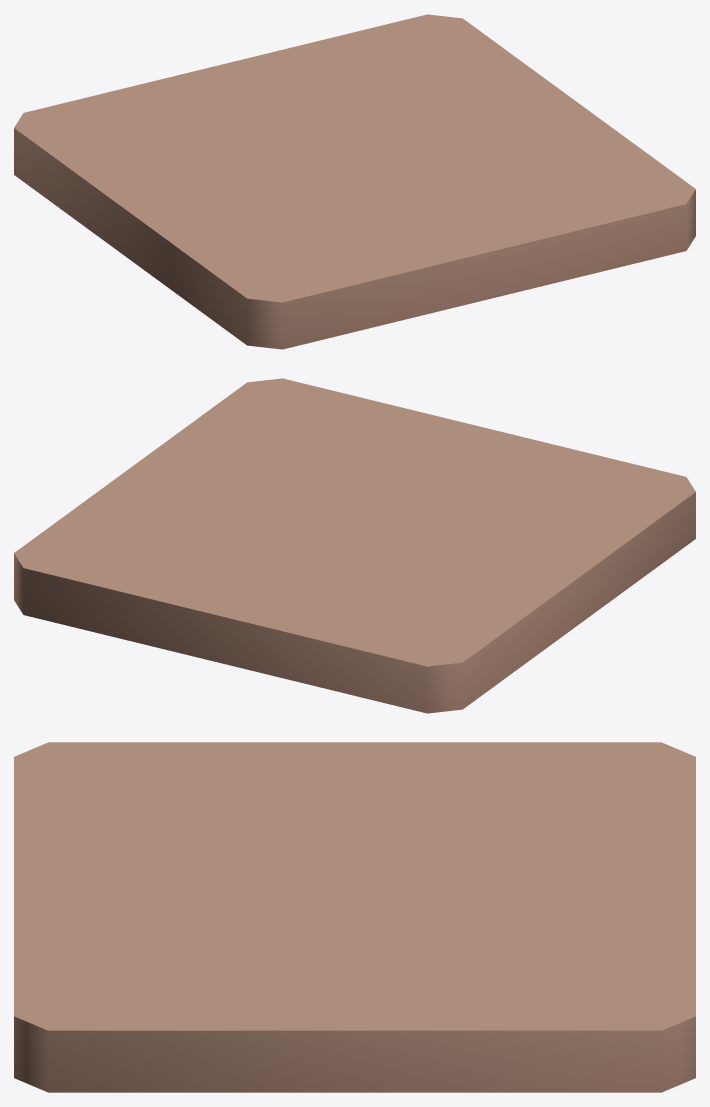
3 renders of one model, top to bottom at view 1: azimuth 30°, elevation 25°; view 2: azimuth 150°, elevation 25°; view 3: azimuth 270°, elevation 25°, orthographic. The views are drawn at different scales.
Parts seen in each view (by area): view 1: surface; view 2: surface; view 3: surface.
Part boxes in pixels (left/top/right/bottom): surface: left=14, top=14, right=695, bottom=349; surface: left=14, top=378, right=695, bottom=713; surface: left=14, top=742, right=695, bottom=1092.
Size of the model in its own units: 1 by 0.1 by 1.
